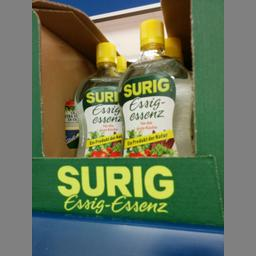vinegar: (121, 18, 190, 156), (74, 36, 122, 156)
